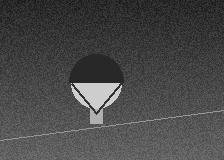helmet: (69, 54, 123, 113)
